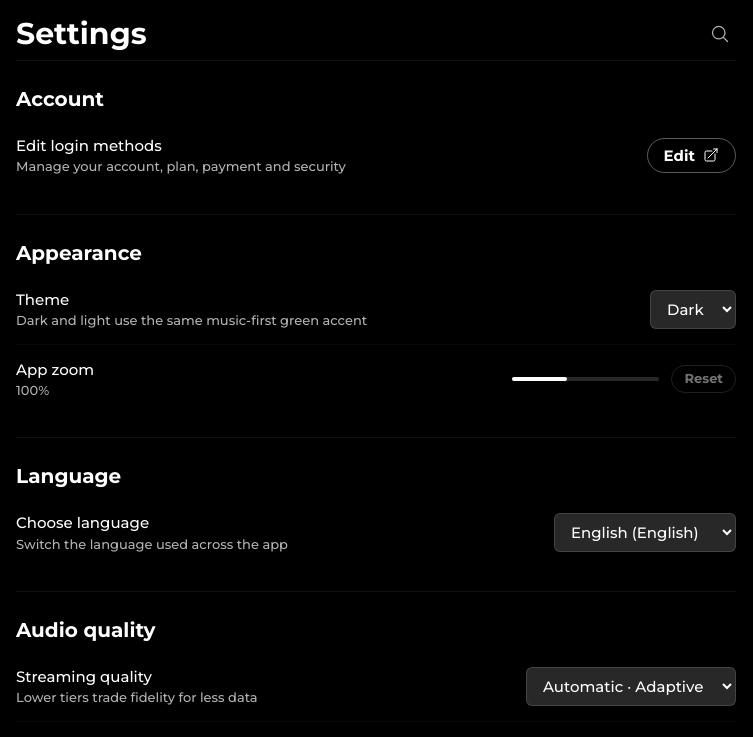
Scenario: SettingsPage implemented preferences › shows a "No results found" state for non-matching queries
The width and height of the screenshot is (753, 737).
Click the button named "Search settings". click: {"x": 720, "y": 34}
box: [704,18,736,50]
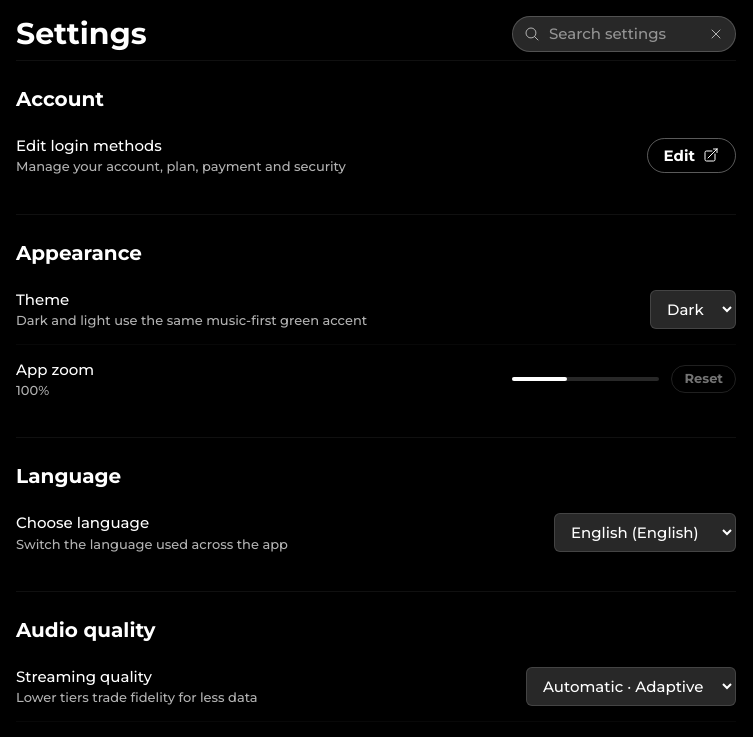
Type "zzzzqqqq" into the search field labelled "Search settings". click: {"x": 624, "y": 34}
box: [512,16,736,52]
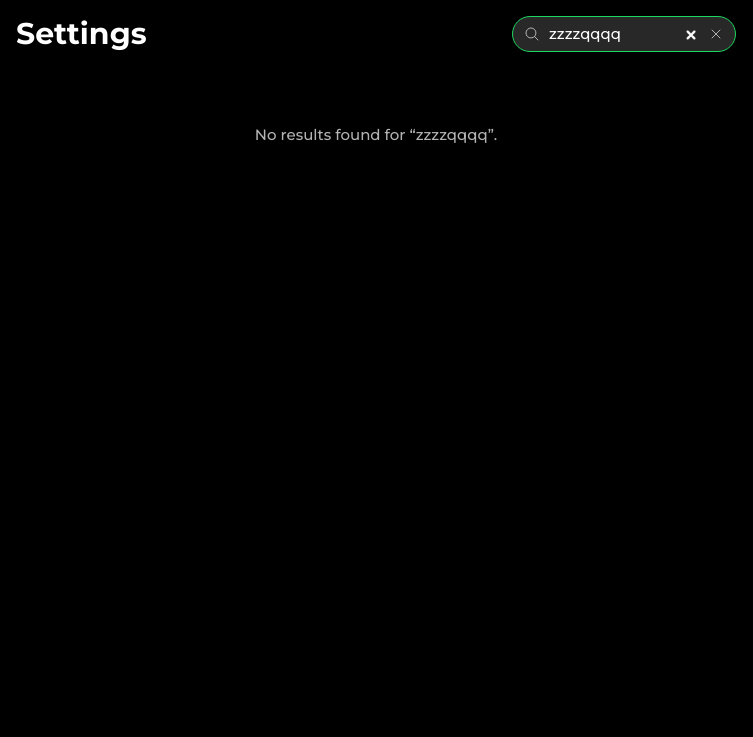
Check: the text "No results found for “zzzzqqqq”." is shown, box [255,125,497,144]
Check: the text labelled "Theme" is gone
